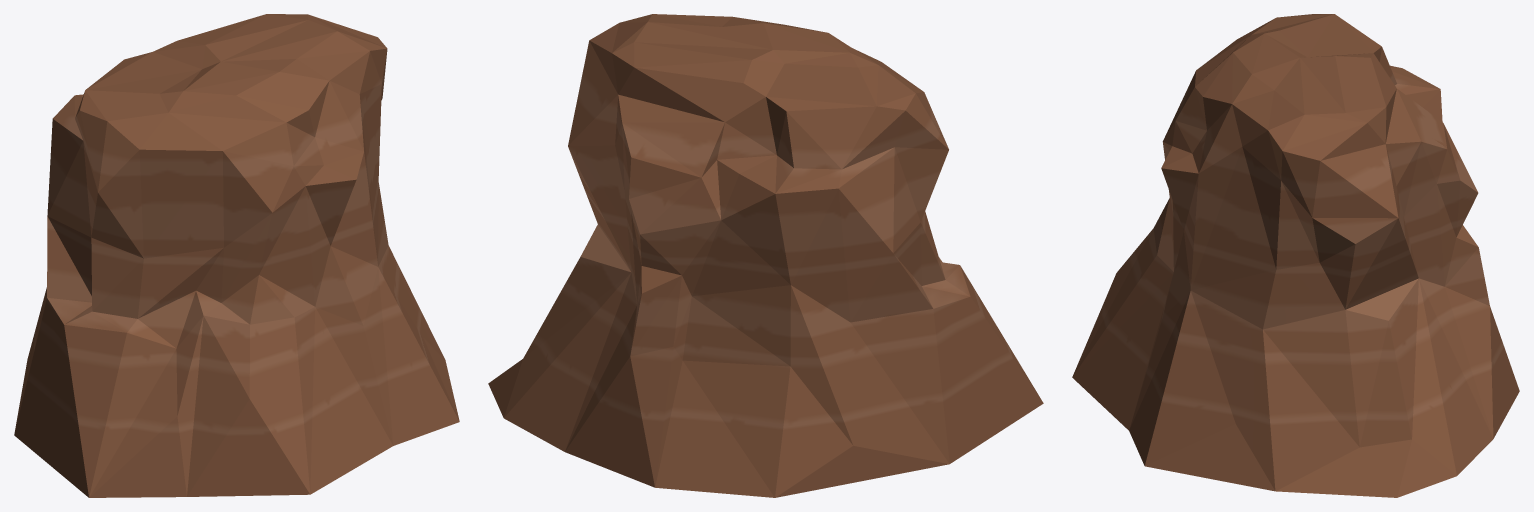
The model's file is Roca_Decierto_grande_2_Level3.glb.
3 renders of one model, left to right at view 1: azimuth 30°, elevation 25°; view 2: azimuth 150°, elevation 25°; view 3: azimuth 270°, elevation 25°, orthographic. The views are drawn at different scales.
Parts seen in each view (by area): view 1: SM_Env_Butte_04; view 2: SM_Env_Butte_04; view 3: SM_Env_Butte_04.
Part boxes in pixels (x1,y1,x2,y2): SM_Env_Butte_04: (14, 14, 459, 497); SM_Env_Butte_04: (488, 14, 1043, 497); SM_Env_Butte_04: (1072, 14, 1519, 497).
Bounding box in the file's own units: 9.98 × 7.76 × 9.39.
Materials: 1 (1 with a texture image).
